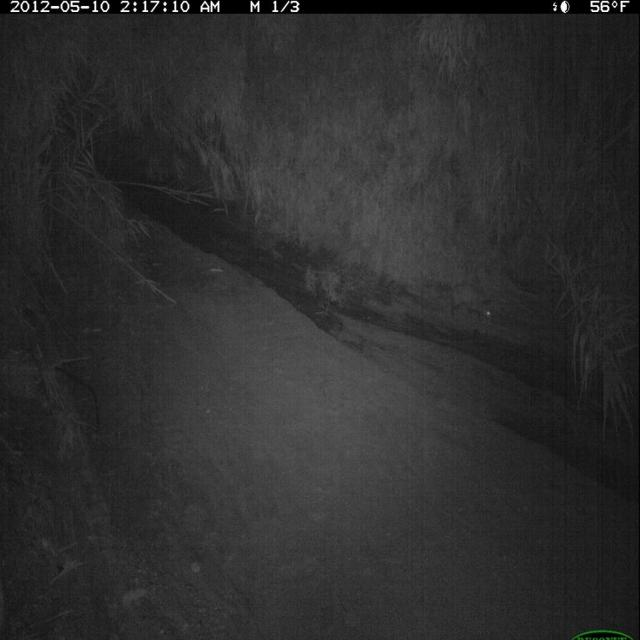opossum: (432, 279, 502, 326)
